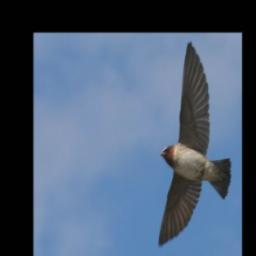Swallow: (157, 40, 232, 246)
